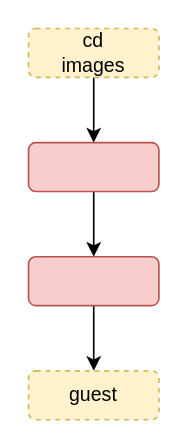
Image size: 187x448. Some labels were removed from this diagram. Each missing label, with the centre of its shape:
"pigz" belongs at point 93,166.
"virsh define" belongs at point 93,280.
